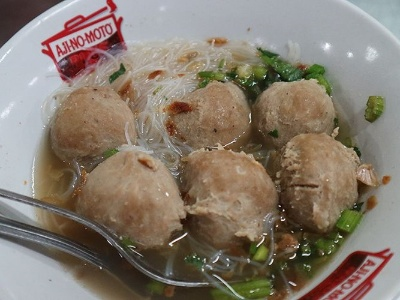bakso: (51, 64, 359, 239)
